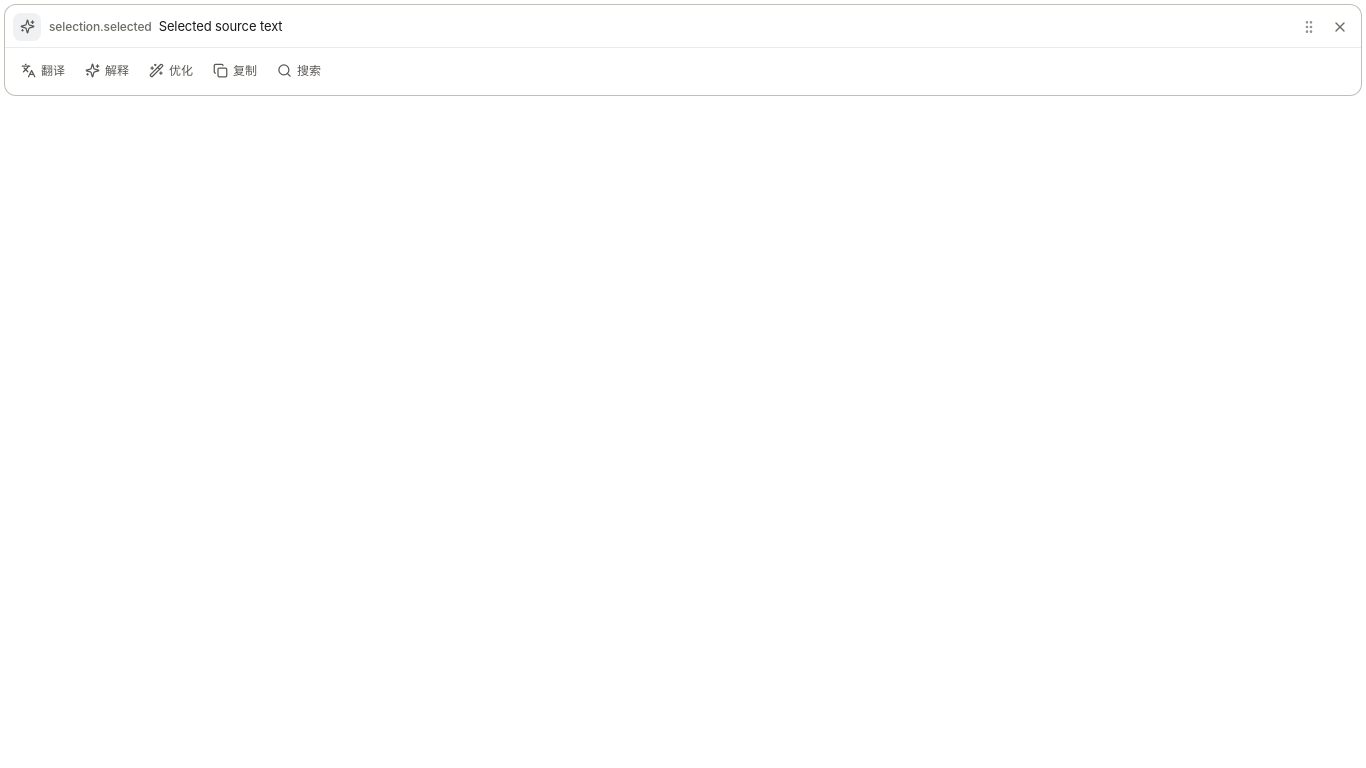
Test: SelectionOverlay streaming › uses a fresh safe request id and copy state for each action
Click the button "翻译".
click(43, 70)  # box [12,54,74,88]
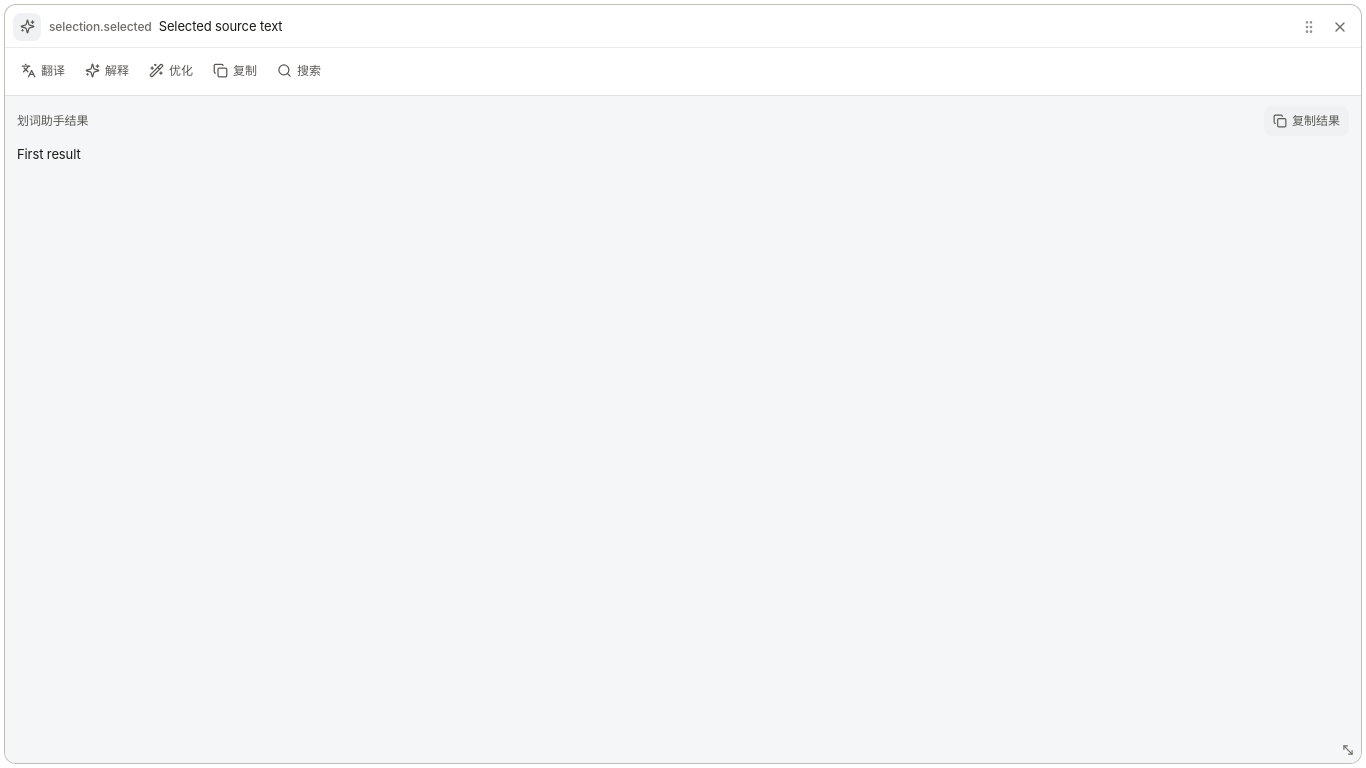
Expected: the text "First result" is shown, [17,146,80,162]
Click the button "复制结果".
click(1306, 121)  # box [1264,106,1349,136]
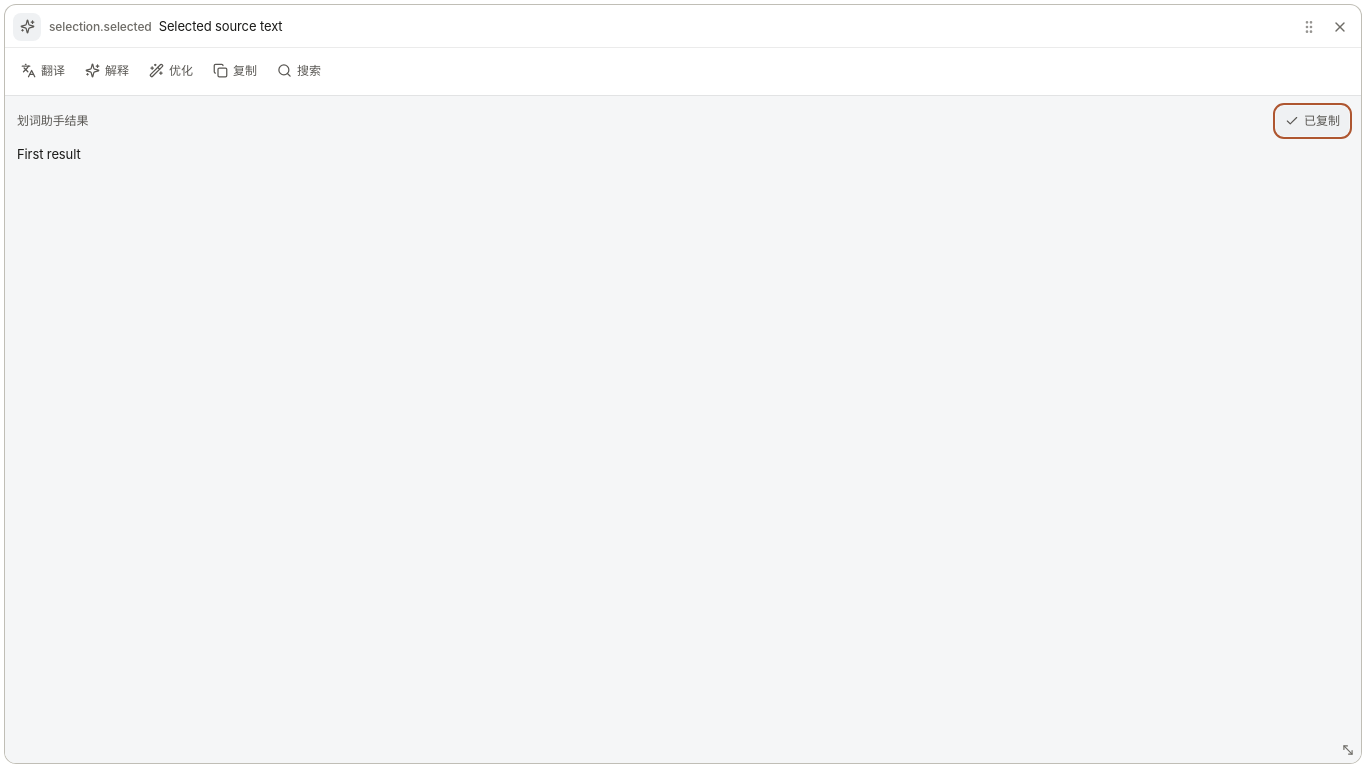
Expected: the button "已复制" is shown, [1276,106,1349,136]
Click the button "解释".
click(107, 70)  # box [76,54,138,88]
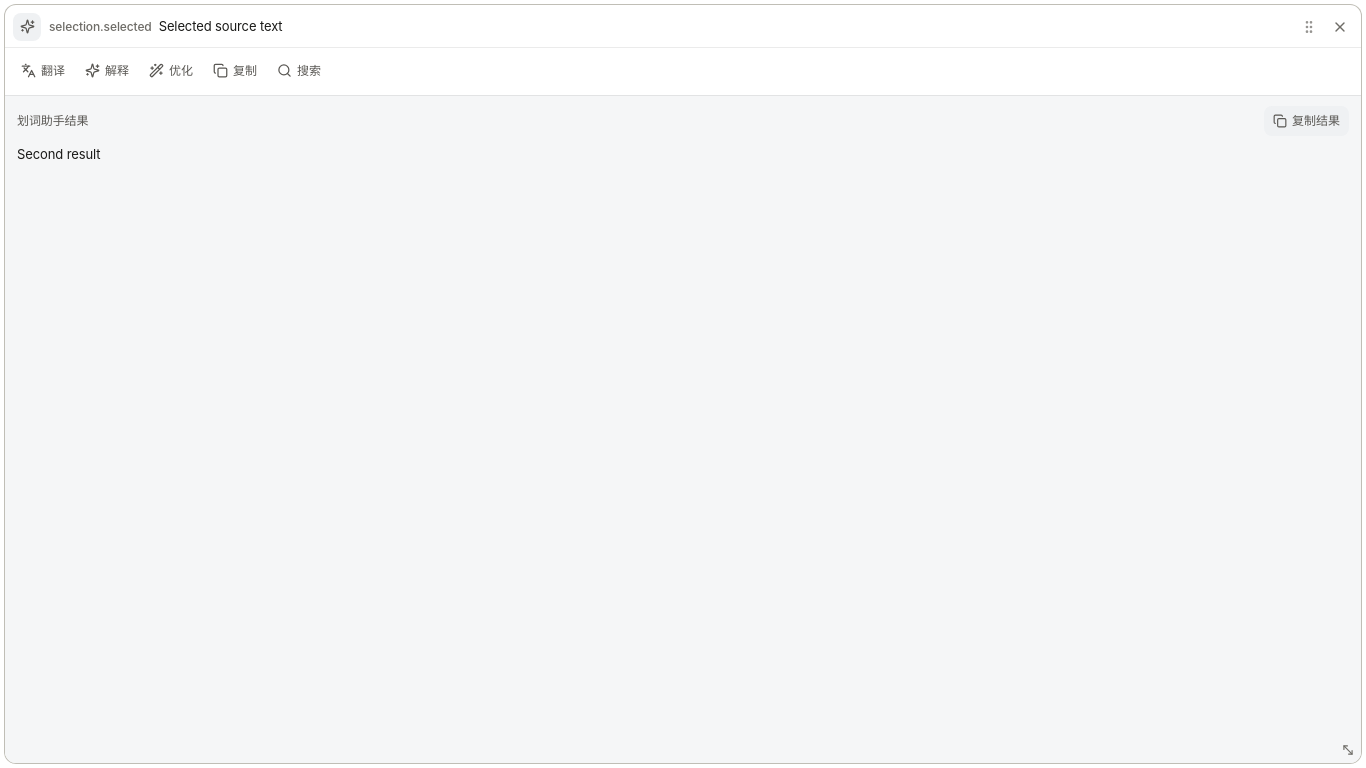
Expected: the text "Second result" is shown, [17,146,100,162]
Expected: the button "复制结果" is shown, [1264,106,1349,136]
